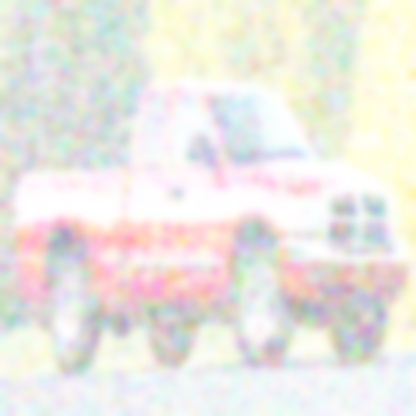Vehicle: (8, 77, 411, 381)
